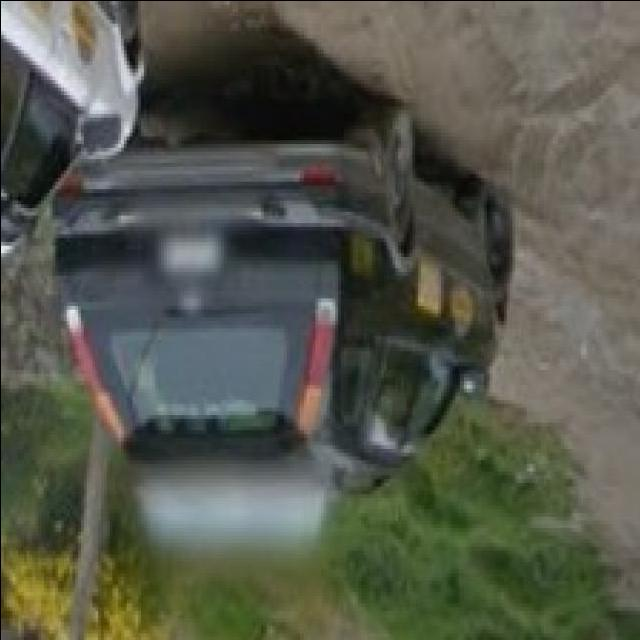car: (53, 110, 508, 518)
